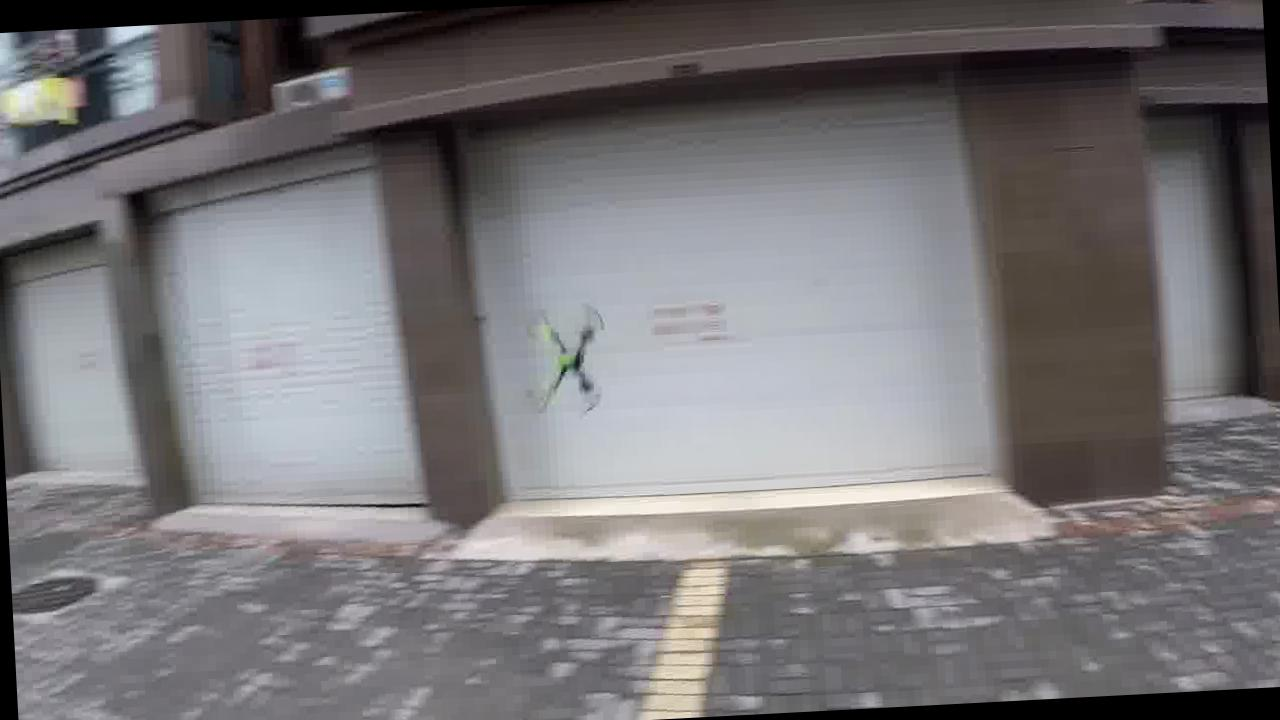drone: (502, 292, 612, 414)
